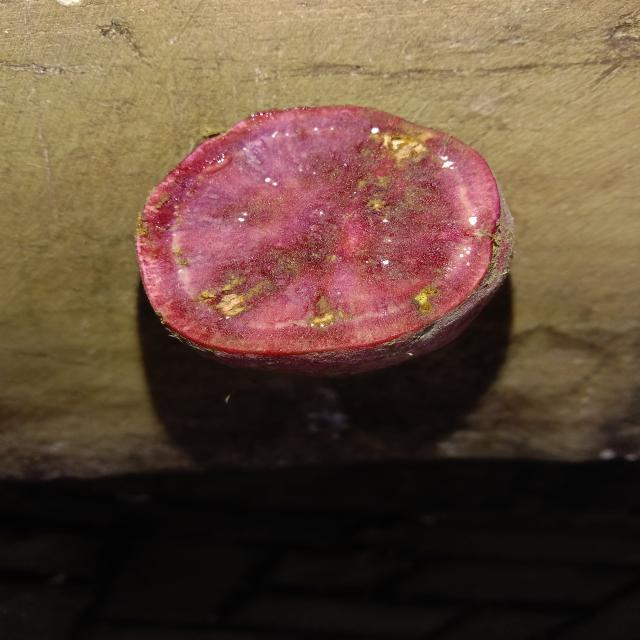Sick Sweet Potato_Tuber Rot: (137, 106, 500, 354)
